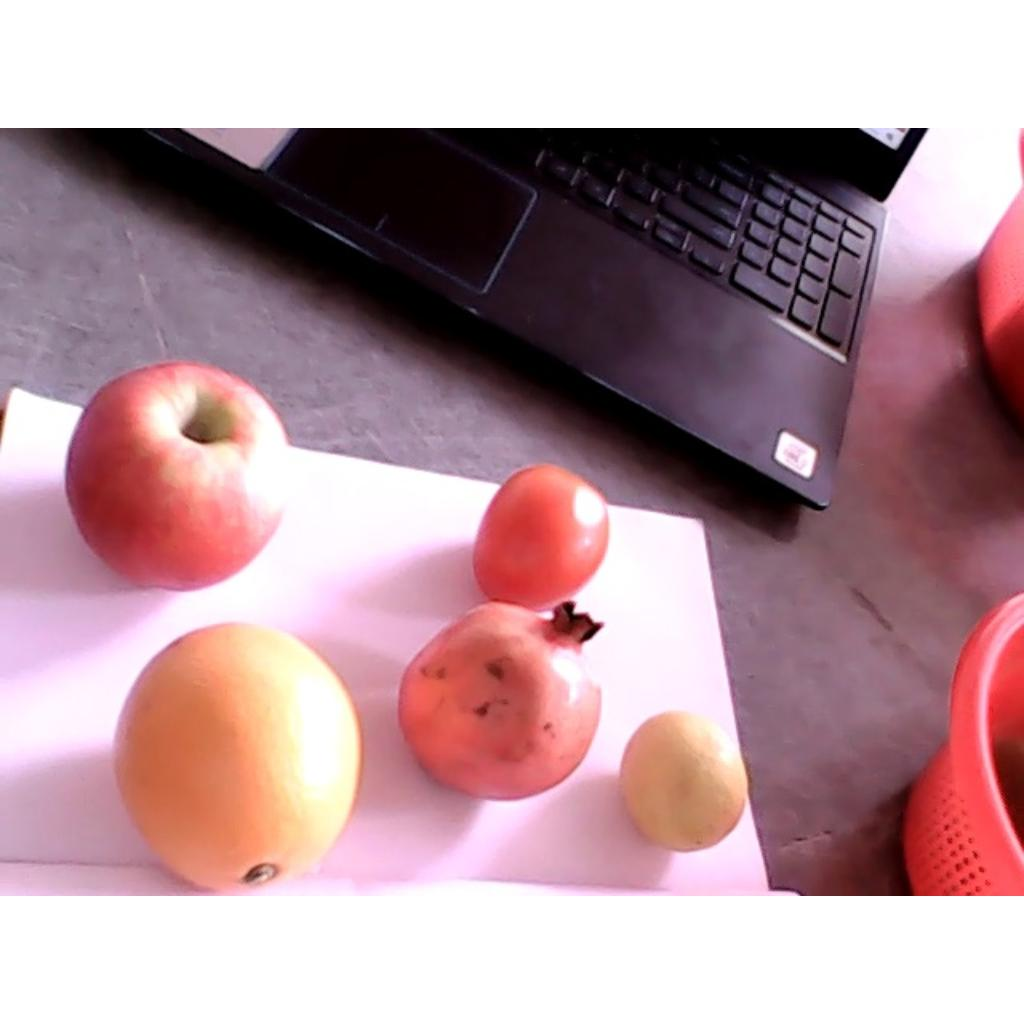apple: (63, 361, 293, 591)
lemon: (620, 710, 748, 854)
orange: (113, 621, 361, 894)
pomegranate: (396, 600, 605, 801)
tomato: (474, 463, 610, 610)
